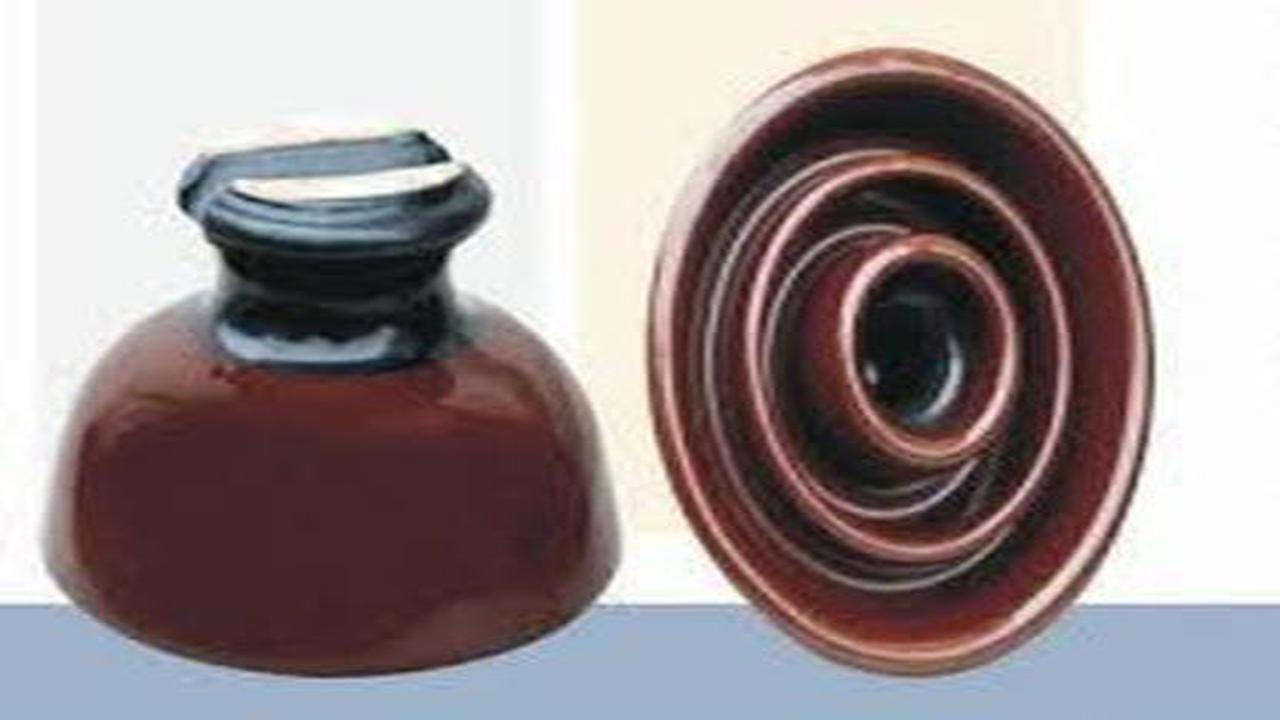insulator_pin: (47, 110, 644, 670)
